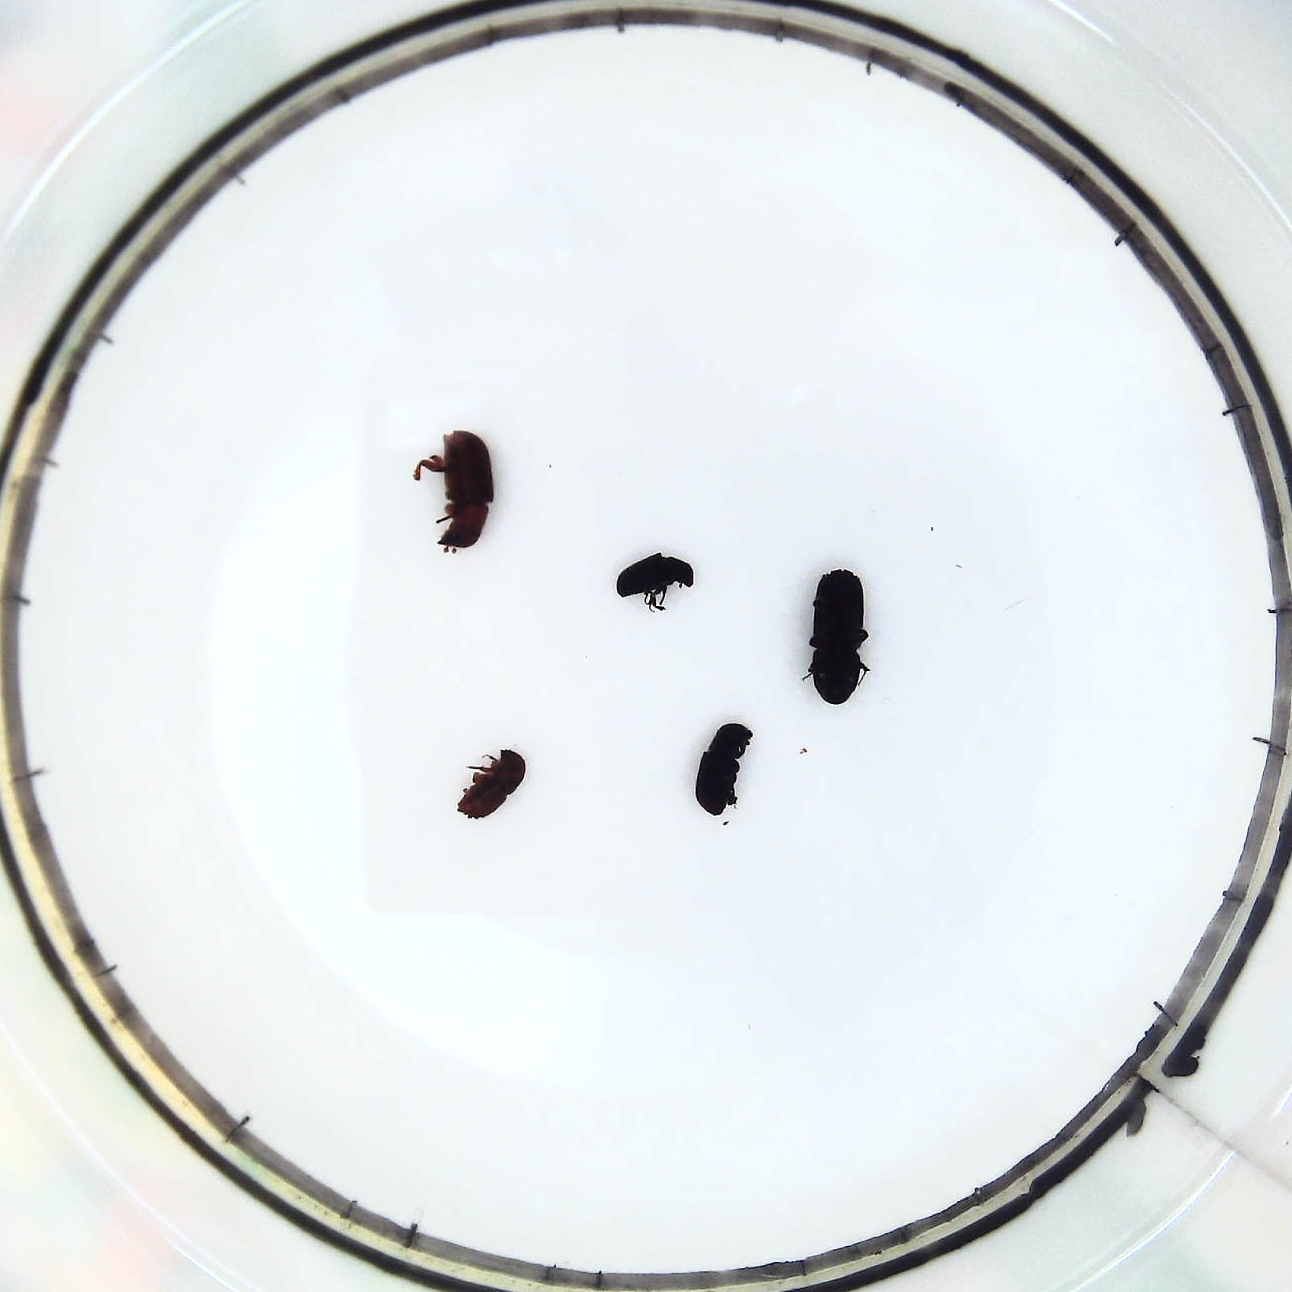Boerner: (806, 564, 877, 710)
Leconte: (406, 422, 500, 558)
armandi: (691, 717, 760, 822)
coleoptera: (616, 551, 700, 620)
linnaeus: (456, 742, 528, 825)
